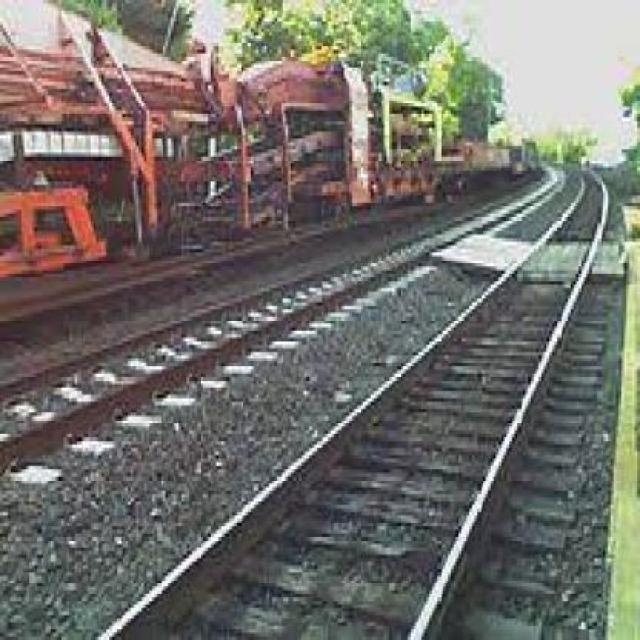rail: (86, 149, 618, 640), (1, 158, 565, 501)
